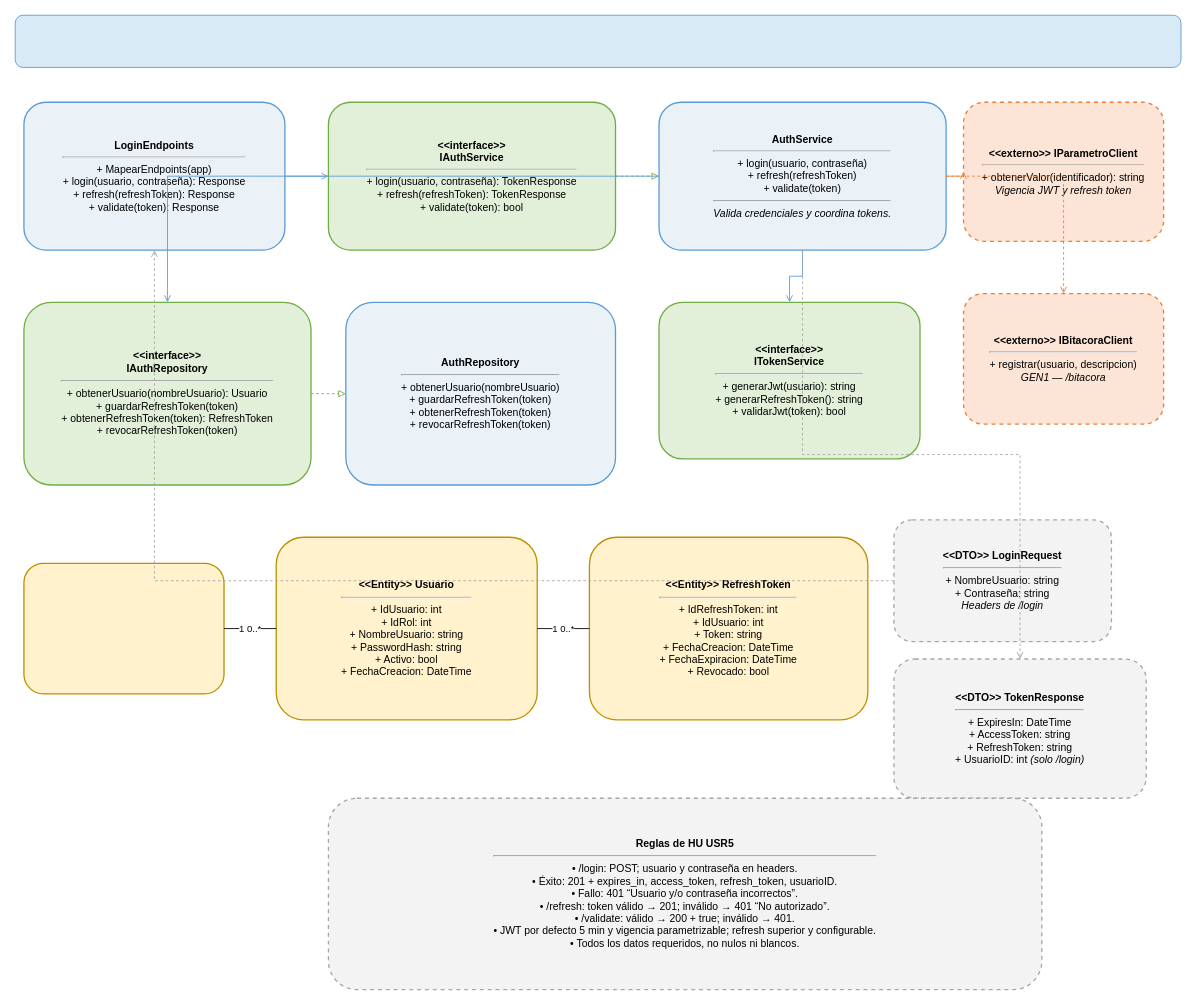
This 1196x1006 diagram has some shape labels left out. Each missing label, with the centre of its shape:
<<Entity>> Rol + IdRol: int + Nombre: string + Descripcion: string?: pixel 123 628
USR5 — DIAGRAMA DE CLASES: LOGIN Autenticación, JWT y refresh token: pixel 597 40
